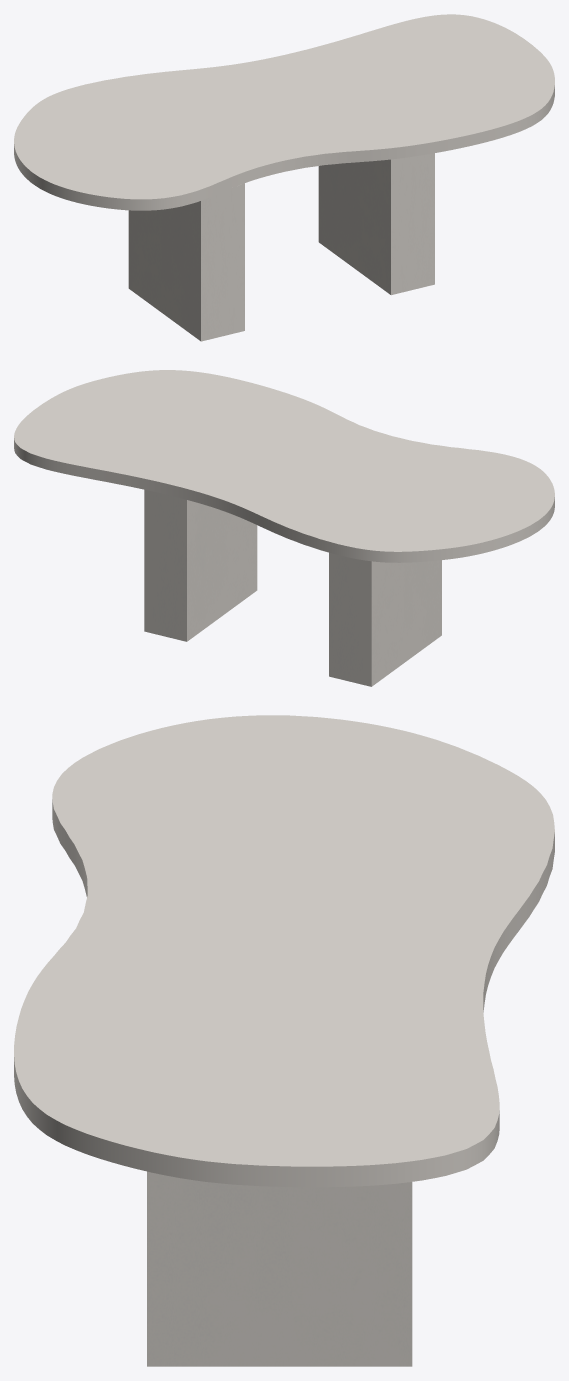
Rendered from pearlwhite_wave_standard_ridge.glb.
3 views of the same model, one above another, from view 1: azimuth 30°, elevation 25°; view 2: azimuth 150°, elevation 25°; view 3: azimuth 270°, elevation 25° (orthographic). The views are drawn at different scales.
Visible parts, largest first — view 1: standard_wave, ridge; view 2: standard_wave, ridge; view 3: standard_wave, ridge.
Part boxes in pixels (bbox=[...]): standard_wave: bbox=[14, 14, 554, 210]; ridge: bbox=[128, 153, 434, 341]; standard_wave: bbox=[14, 370, 554, 562]; ridge: bbox=[144, 489, 441, 686]; standard_wave: bbox=[14, 715, 554, 1187]; ridge: bbox=[147, 1171, 412, 1366].
Size of the model in its own units: 7.5 by 2.5 by 3.8.
Materials: 1 (1 with a texture image).
